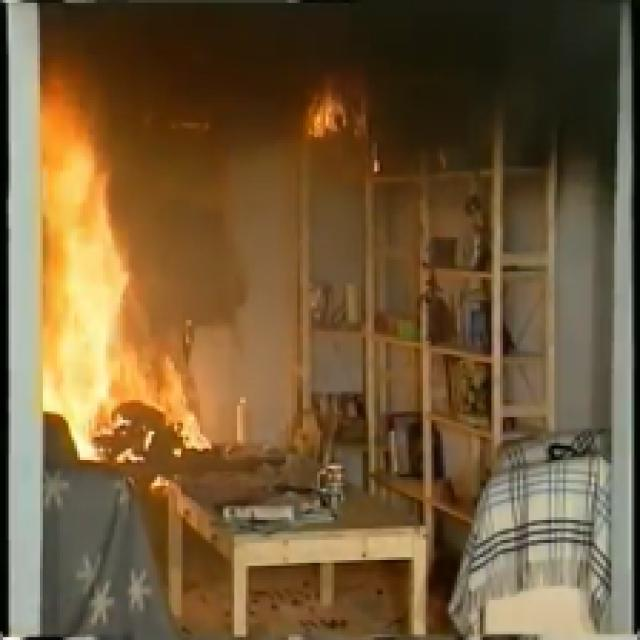fire: (41, 67, 176, 464)
